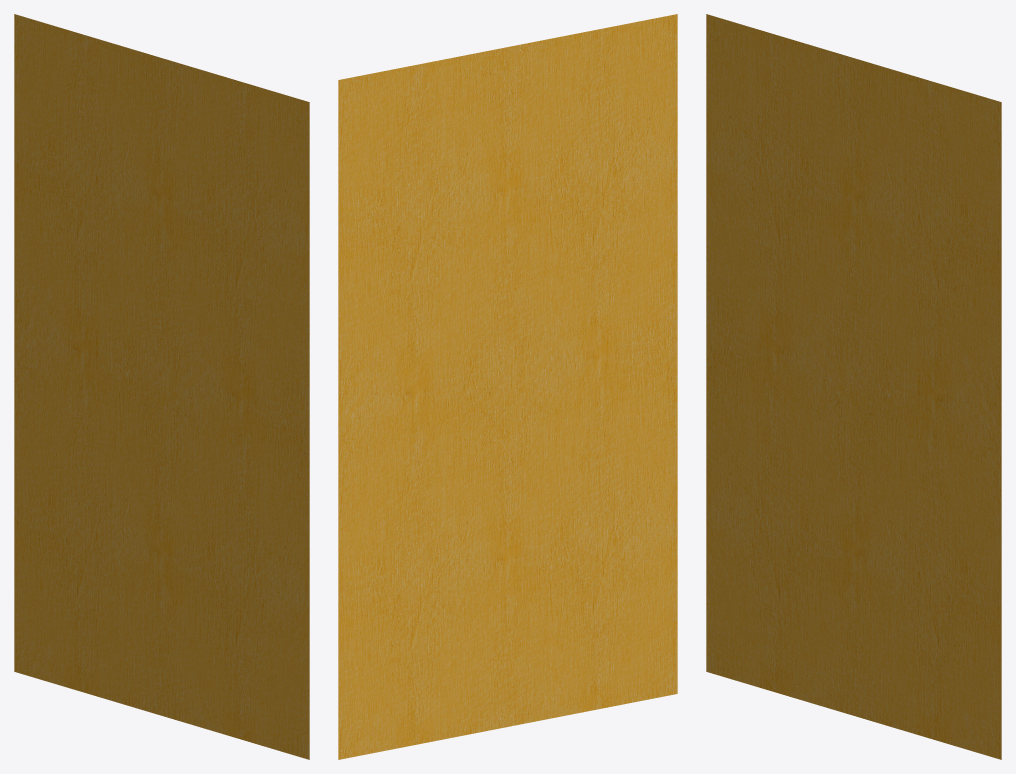
The model's file is animated_kitchen_curtain_medium.gltf.
3 renders of one model, left to right at view 1: azimuth 90°, elevation 25°; view 2: azimuth 150°, elevation 25°; view 3: azimuth 270°, elevation 25°, orthographic. The views are drawn at different scales.
Visible parts, largest first — view 1: Шторы.005; view 2: Шторы.005; view 3: Шторы.005.
Boxes of the visible parts, x1=… form: Шторы.005: x1=14, y1=14, x2=309, y2=759; Шторы.005: x1=338, y1=14, x2=677, y2=759; Шторы.005: x1=706, y1=14, x2=1001, y2=759.
Bounding box in the file's own units: 0.8624 × 3 × 1.22.
1 material, 1 textured.
